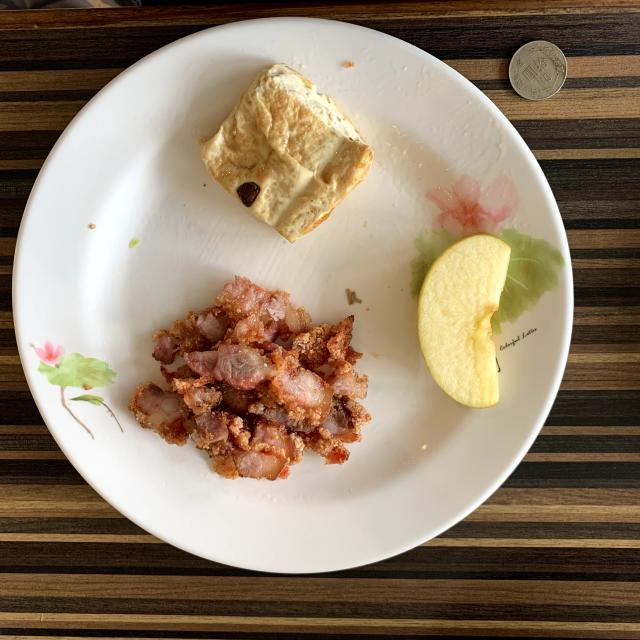apple -sliced-: (418, 234, 511, 408)
coin: (509, 41, 568, 100)
red grilled pork: (131, 278, 369, 480)
